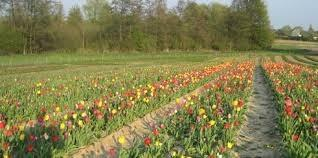field: (0, 53, 255, 157), (263, 60, 317, 156)
road: (236, 66, 286, 157)
